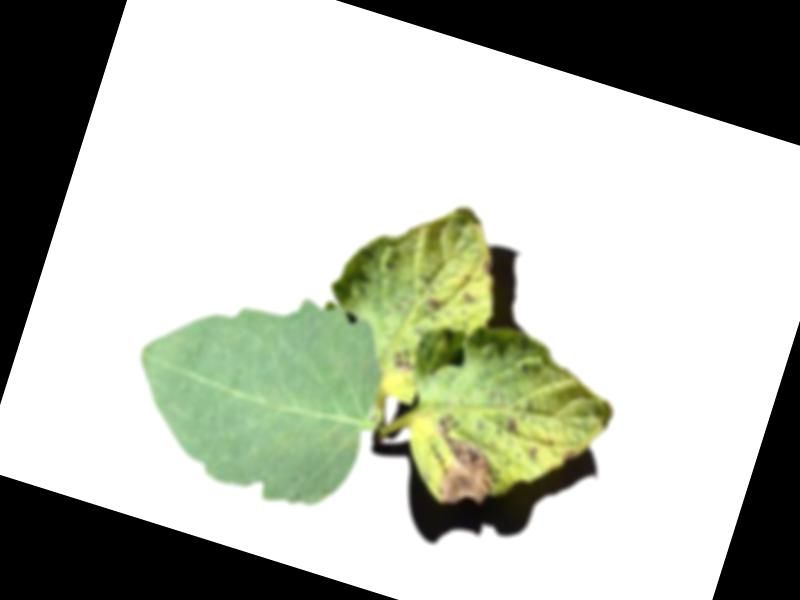Early_blight: (412, 408, 511, 516), (388, 343, 418, 376), (556, 443, 579, 465), (422, 293, 442, 309), (504, 412, 520, 430), (479, 255, 493, 273), (459, 290, 473, 305)
